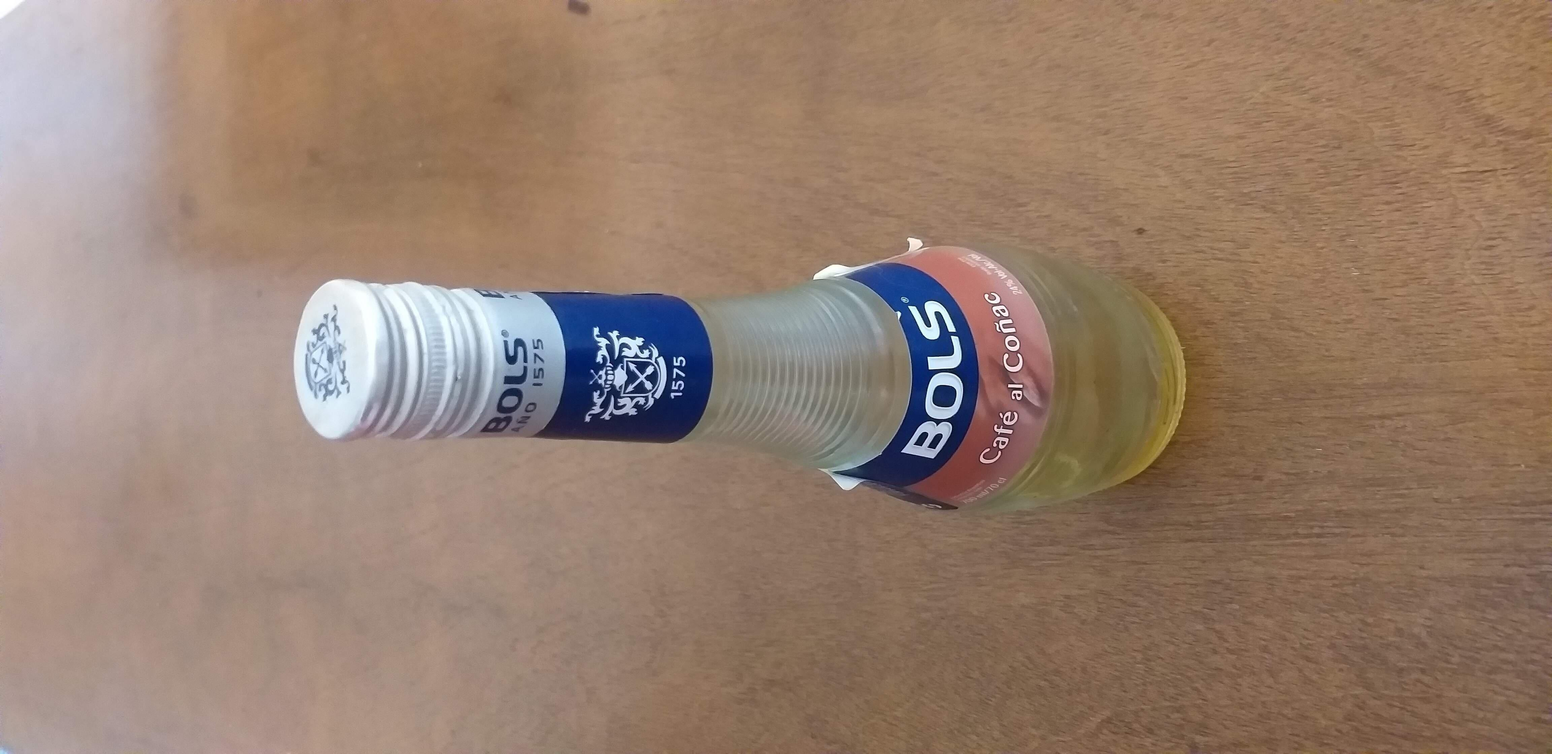bottle-glass: (273, 226, 1206, 520)
